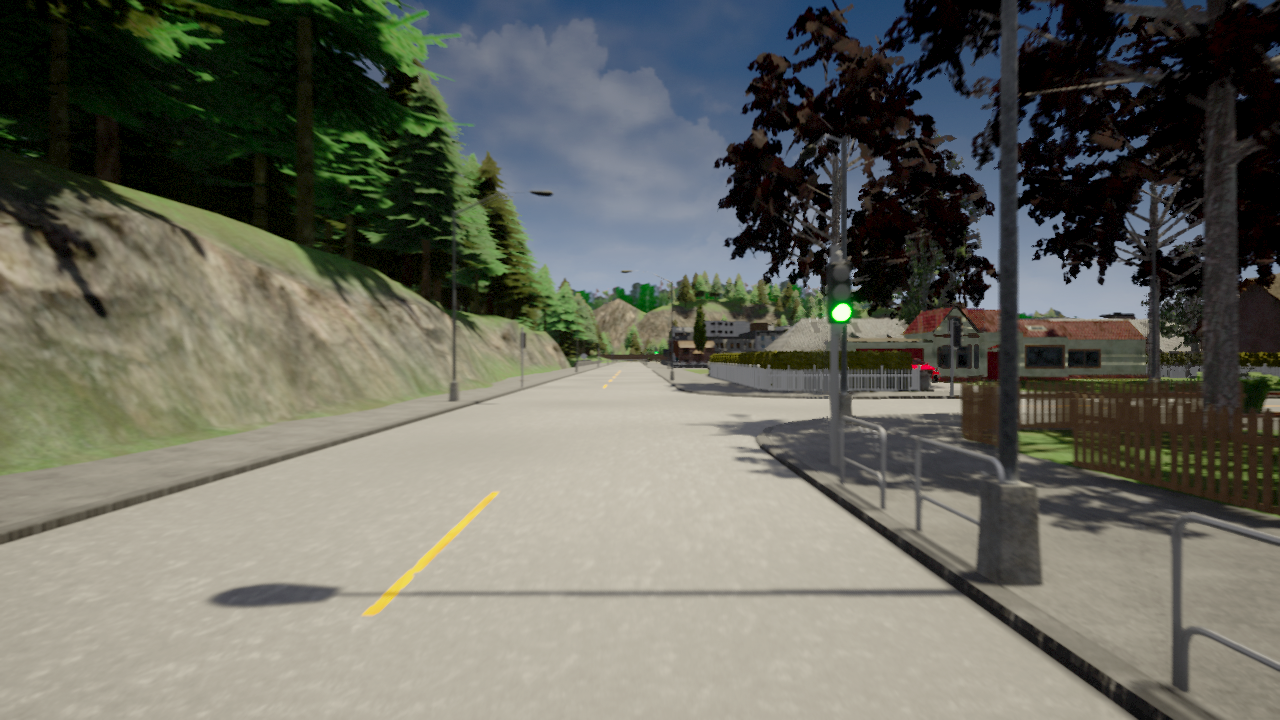green: (826, 260, 853, 325)
